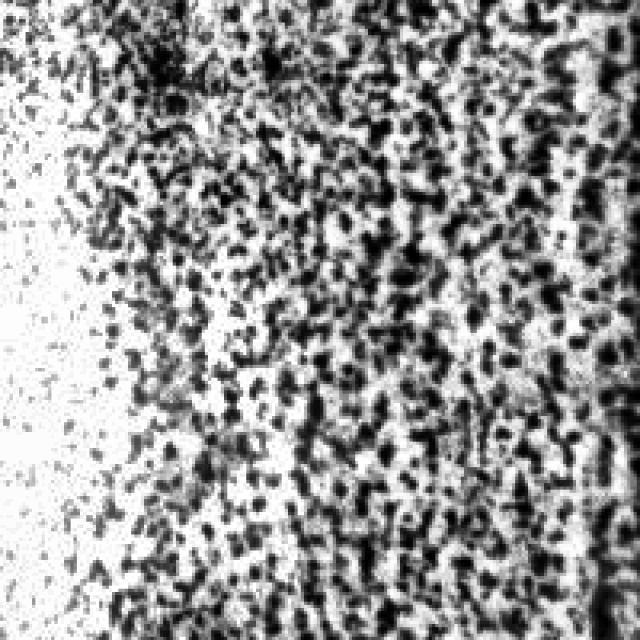Rolled_in_Scale: (51, 0, 634, 611)
